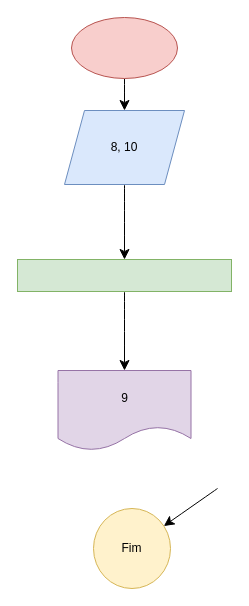
Some shapes in this 249 by 606 pixel diagram are drawn without their labels. The centre of each missing label's shape, as x and y in pixels:
"Início" belongs at (x=124, y=47).
"Media=(8+10)/2" belongs at (x=124, y=275).
